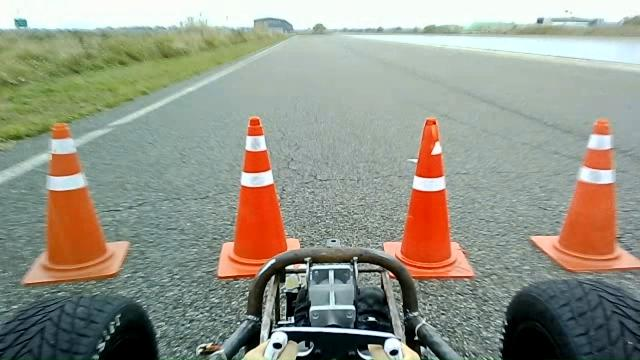red cone: (20, 121, 130, 286), (529, 117, 639, 274), (384, 116, 474, 280), (218, 115, 304, 279)
